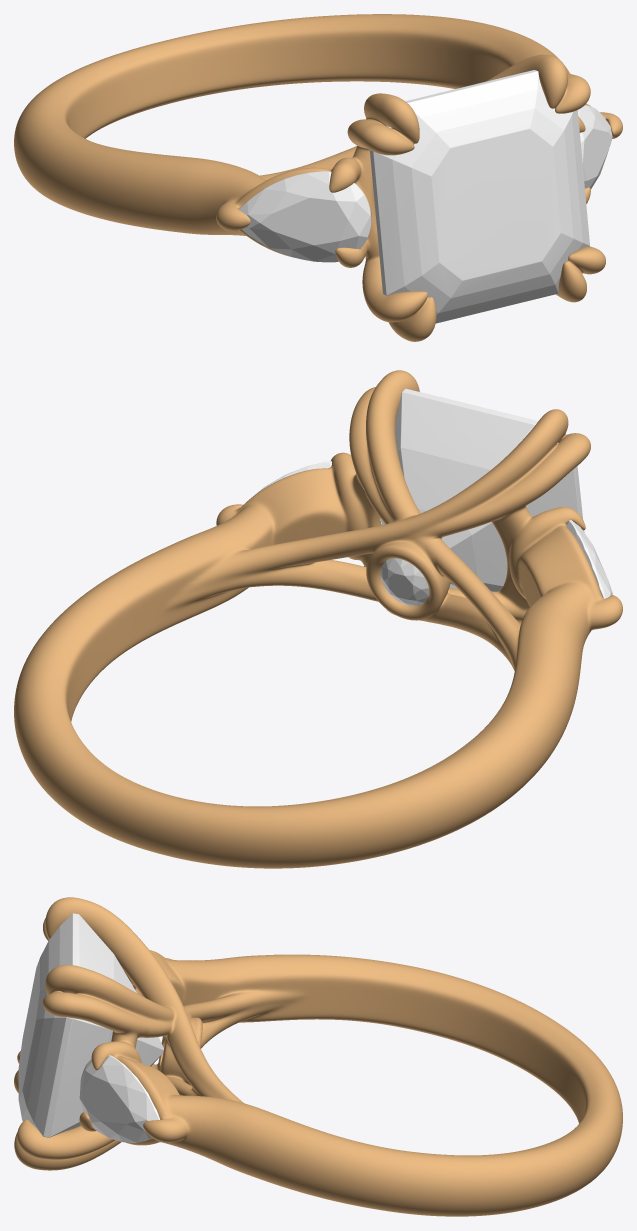
Rendered from trilogy.glb.
3 renders of one model, top to bottom at view 1: azimuth 30°, elevation 25°; view 2: azimuth 150°, elevation 25°; view 3: azimuth 270°, elevation 25°, orthographic. The views are drawn at different scales.
Parts seen in each view (by area): view 1: ring, diamond_main, diamond_left, diamond_right; view 2: ring, diamond_main, diamond_bottom, diamond_left; view 3: ring, diamond_main, diamond_right.
Boxes of the visible parts, left/top/right/bottom form: ring: left=14, top=14, right=622, bottom=341; diamond_main: left=369, top=70, right=589, bottom=323; diamond_left: left=239, top=171, right=371, bottom=262; diamond_right: left=577, top=105, right=612, bottom=189; ring: left=14, top=370, right=622, bottom=868; diamond_main: left=381, top=388, right=584, bottom=591; diamond_bottom: left=380, top=558, right=429, bottom=605; diamond_left: left=566, top=520, right=612, bottom=598; ring: left=14, top=897, right=622, bottom=1216; diamond_main: left=18, top=913, right=163, bottom=1137; diamond_right: left=79, top=1055, right=160, bottom=1142.
Size of the model in its own units: 1.27 by 0.6046 by 1.56.
